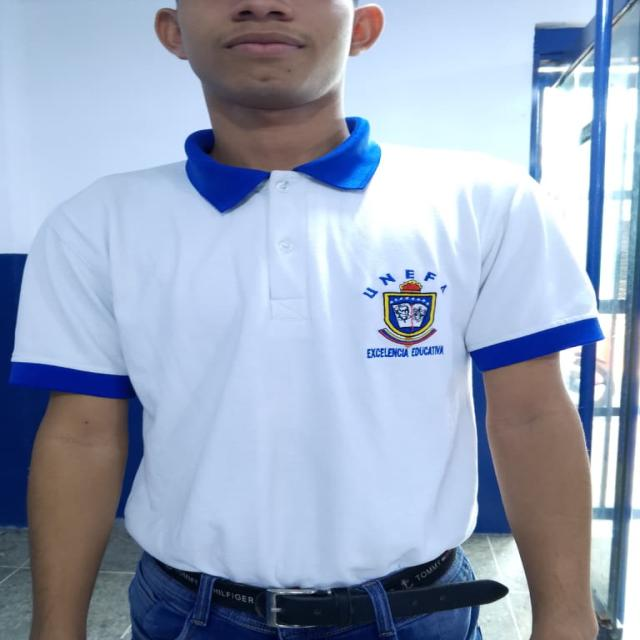uniforme_superior: (9, 114, 607, 591)
